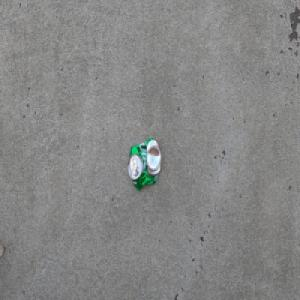SodaCan: (127, 137, 161, 192)
